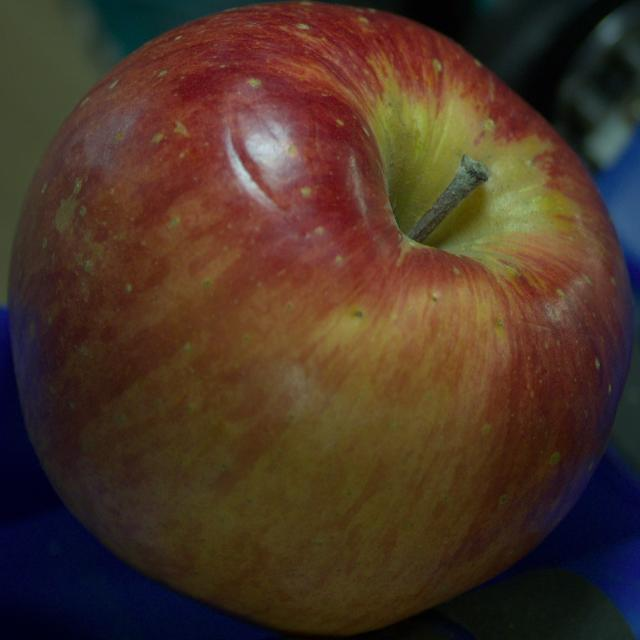apple: (7, 1, 632, 634)
scratch: (224, 93, 292, 215)
